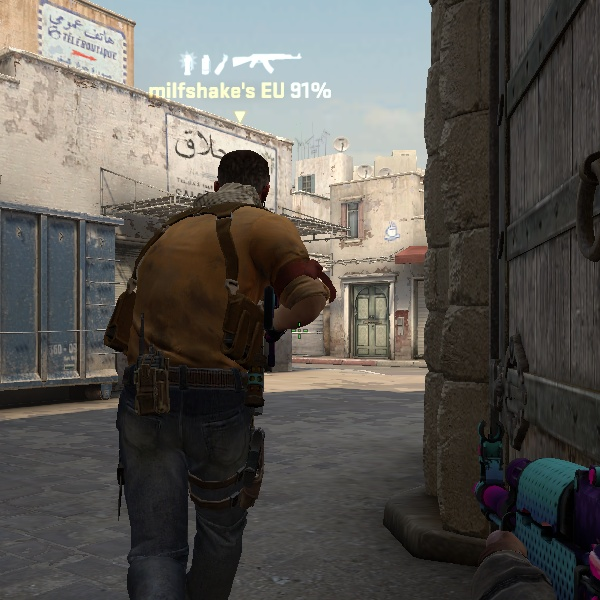t_body: (99, 134, 354, 587)
t_head: (199, 138, 289, 227)
